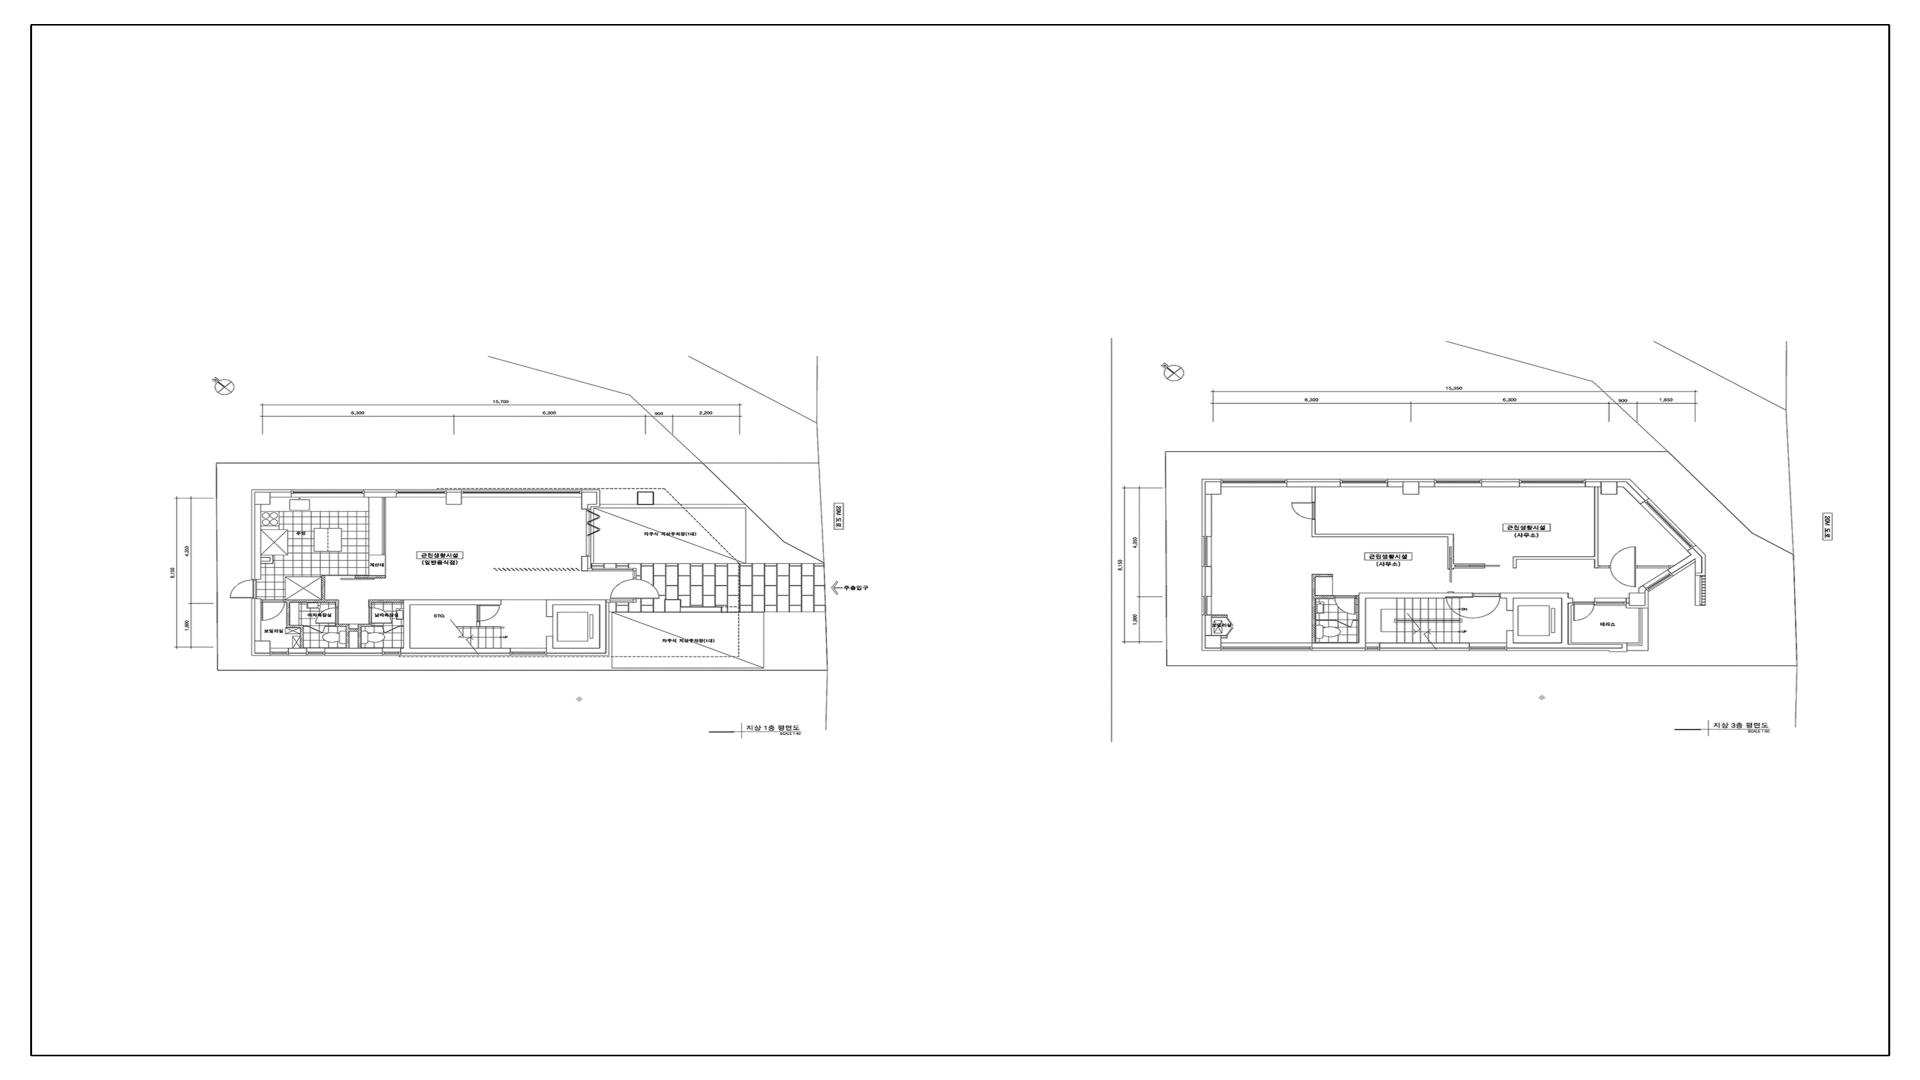door: (1447, 597, 1499, 620), (1610, 546, 1636, 587), (609, 579, 661, 599), (229, 580, 257, 599), (261, 600, 285, 621), (1291, 502, 1316, 520), (1335, 595, 1356, 615), (1573, 601, 1594, 621), (315, 607, 339, 624), (476, 605, 500, 621), (369, 608, 392, 624), (303, 625, 335, 633), (372, 625, 404, 633), (1335, 620, 1358, 628), (1225, 618, 1234, 636), (326, 575, 355, 580), (1448, 570, 1455, 592), (1485, 563, 1513, 568)
wall: (1507, 642, 1627, 651), (401, 647, 510, 655), (1379, 642, 1470, 651), (1387, 479, 1435, 495), (1585, 479, 1630, 495), (1366, 592, 1473, 599), (252, 505, 261, 580), (1623, 479, 1650, 504), (1667, 555, 1696, 576), (1688, 546, 1706, 576), (1316, 534, 1455, 538), (546, 647, 609, 655), (599, 600, 609, 647), (1312, 642, 1366, 651), (1287, 479, 1340, 488), (410, 600, 501, 605), (1499, 592, 1569, 599), (324, 647, 382, 655), (1201, 495, 1212, 537), (1358, 592, 1366, 642), (252, 599, 261, 641), (582, 489, 600, 509), (1561, 599, 1569, 642), (1626, 593, 1648, 608), (1594, 487, 1598, 568), (1201, 479, 1221, 495), (1201, 636, 1221, 651), (404, 600, 410, 647), (1201, 567, 1212, 596), (1482, 479, 1519, 487), (252, 489, 270, 505), (546, 600, 599, 605), (1312, 574, 1316, 642), (252, 641, 270, 655), (364, 489, 397, 497), (446, 489, 462, 505), (1201, 615, 1212, 636), (1448, 538, 1455, 570), (1516, 556, 1594, 559), (270, 489, 291, 497), (1455, 563, 1485, 568), (287, 647, 307, 655), (582, 556, 591, 571), (286, 600, 335, 603), (355, 575, 386, 579), (286, 603, 290, 628), (1506, 599, 1514, 611), (1506, 630, 1514, 642), (546, 636, 554, 647), (546, 605, 554, 617), (322, 575, 326, 599), (345, 626, 349, 647), (357, 626, 361, 647), (1639, 585, 1650, 593), (372, 600, 404, 603), (299, 628, 303, 647), (1316, 595, 1335, 599), (1312, 520, 1316, 537), (1316, 574, 1333, 578), (1212, 615, 1228, 618), (1312, 488, 1316, 502), (1513, 556, 1516, 568), (335, 624, 349, 626), (357, 624, 372, 626), (290, 625, 303, 628), (368, 600, 372, 608), (335, 600, 339, 607), (1569, 597, 1573, 604), (1316, 620, 1335, 621), (349, 629, 357, 632), (476, 621, 480, 626), (1221, 636, 1228, 638), (1356, 595, 1358, 599)
window: (1640, 498, 1696, 551), (462, 489, 582, 497), (1221, 642, 1312, 651), (1643, 570, 1673, 591), (291, 489, 364, 497), (1221, 479, 1287, 487), (1519, 479, 1585, 487), (1341, 479, 1387, 488), (397, 489, 446, 497), (1435, 479, 1482, 487), (1470, 642, 1507, 651), (1201, 537, 1212, 567), (1639, 608, 1648, 642), (381, 497, 386, 555), (510, 647, 546, 655), (1594, 597, 1626, 605), (585, 509, 591, 556), (1627, 642, 1648, 651), (1201, 596, 1212, 615), (382, 647, 401, 655), (270, 647, 287, 655), (307, 647, 324, 655), (1366, 642, 1379, 651), (591, 568, 637, 571), (1636, 566, 1675, 568), (609, 600, 637, 603), (1598, 566, 1610, 568), (633, 571, 637, 579)
